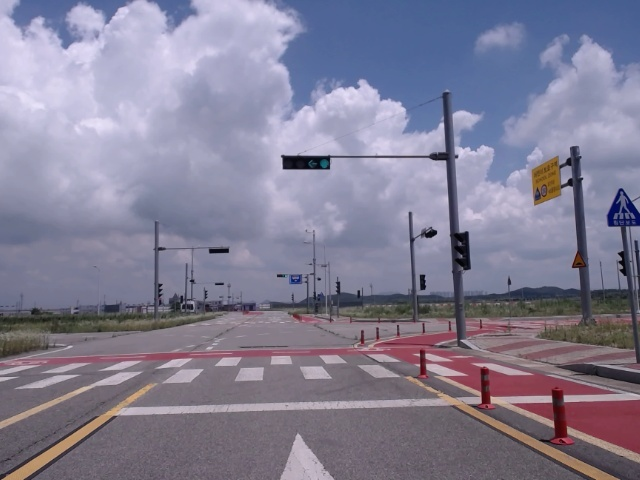all_green_4: (282, 155, 335, 171)
